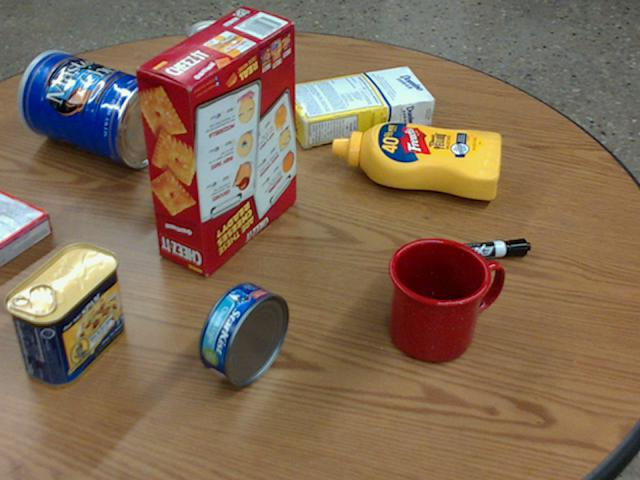cracker_box: (135, 9, 294, 276)
gelatin_box: (0, 190, 53, 267)
large_marker: (416, 238, 530, 263)
master_chef_can: (16, 50, 170, 167)
mug: (389, 237, 502, 362)
mustard_bottle: (331, 123, 501, 198)
potted_meat_can: (6, 243, 123, 388)
sugar_box: (280, 64, 435, 147)
tomato_soup_can: (184, 19, 240, 117)
tuna_fish_can: (198, 283, 290, 386)
